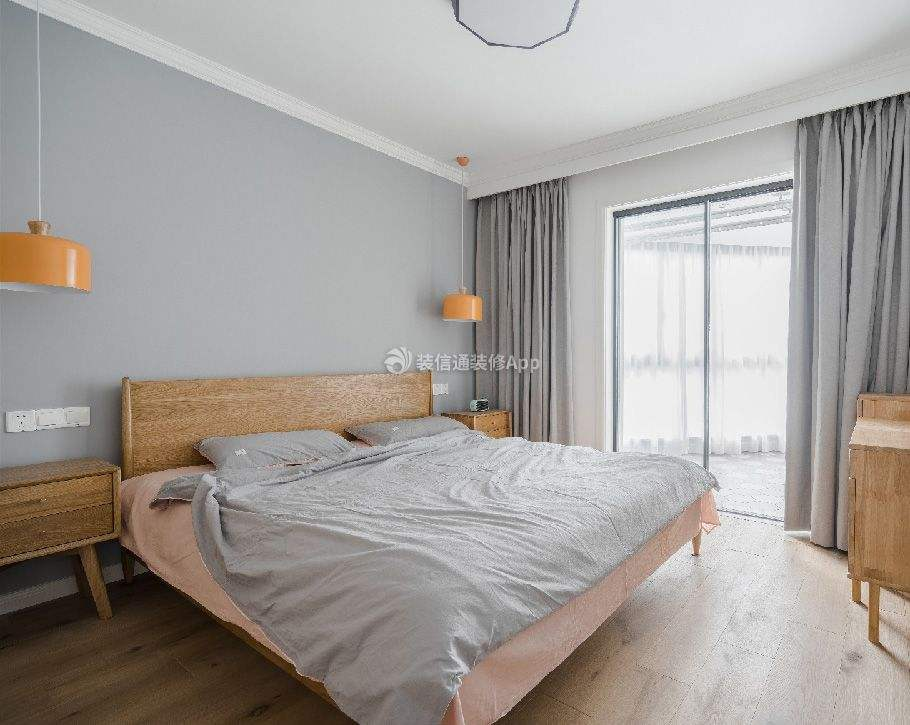床: (114, 423, 703, 707)
枕头: (195, 412, 460, 476)
灯: (448, 4, 574, 60), (3, 219, 94, 291), (438, 286, 484, 335)
